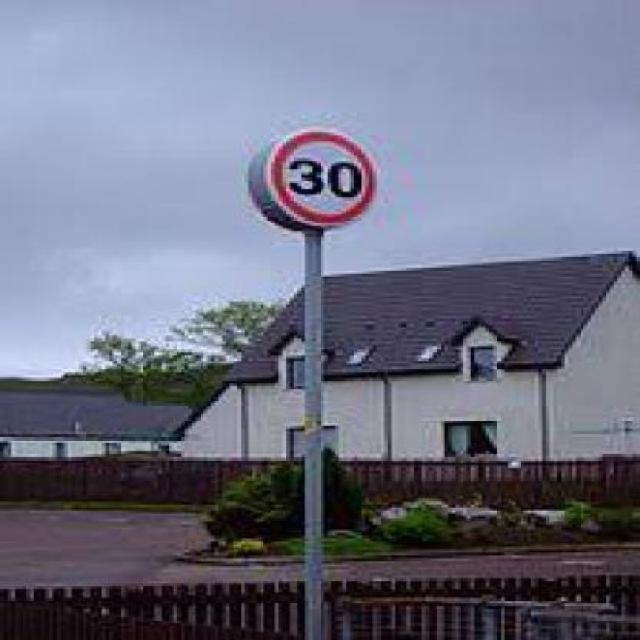forb_speed_over_30: (263, 129, 385, 234)
